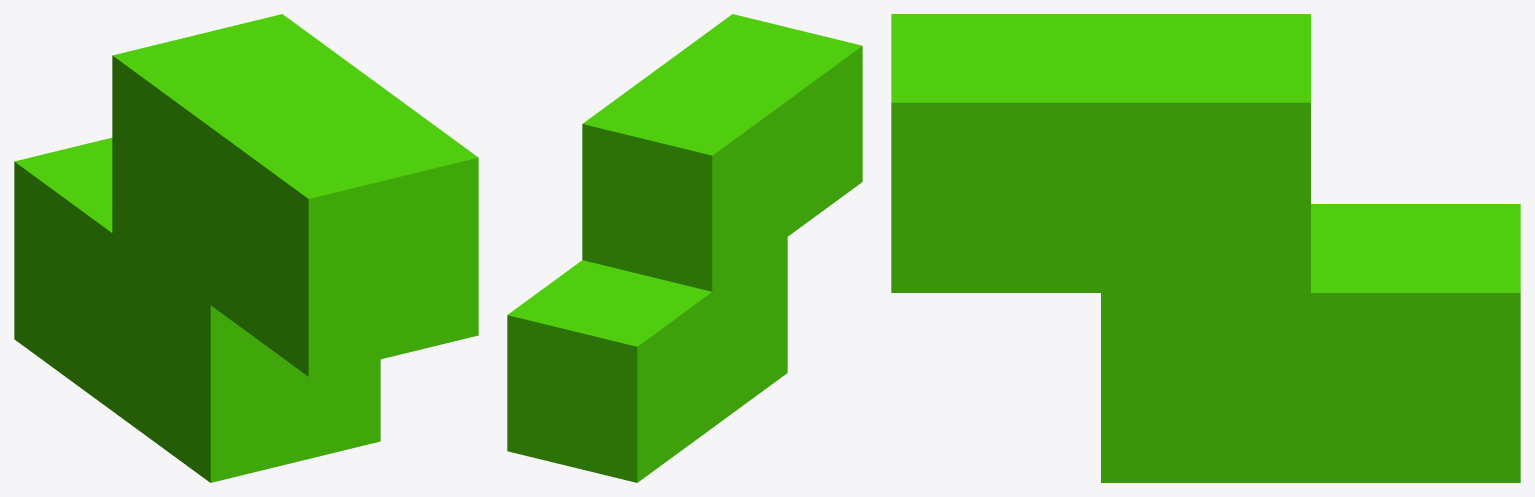
The model's file is tetris-green.fbx.
The picture shows the model from 3 angles, left to right: view 1: azimuth 30°, elevation 25°; view 2: azimuth 150°, elevation 25°; view 3: azimuth 270°, elevation 25°; orthographic projection. The views are drawn at different scales.
Visible parts, largest first — view 1: cube1, cube2, cube4, cube3; view 2: cube3, cube4, cube1, cube2; view 3: cube1, cube3, cube4, cube2.
Boxes of the visible parts, x1=… form: cube1: x1=210, y1=86, x2=478, y2=376; cube2: x1=112, y1=233, x2=380, y2=482; cube4: x1=112, y1=14, x2=379, y2=304; cube3: x1=14, y1=137, x2=112, y2=410; cube3: x1=507, y1=260, x2=712, y2=482; cube4: x1=582, y1=69, x2=787, y2=291; cube1: x1=658, y1=14, x2=862, y2=236; cube2: x1=712, y1=237, x2=787, y2=427; cube1: x1=891, y1=14, x2=1100, y2=292; cube3: x1=1311, y1=204, x2=1520, y2=482; cube4: x1=1101, y1=14, x2=1310, y2=292; cube2: x1=1101, y1=293, x2=1310, y2=482.
Bounding box in the file's own units: 0.5 × 1 × 1.5.
